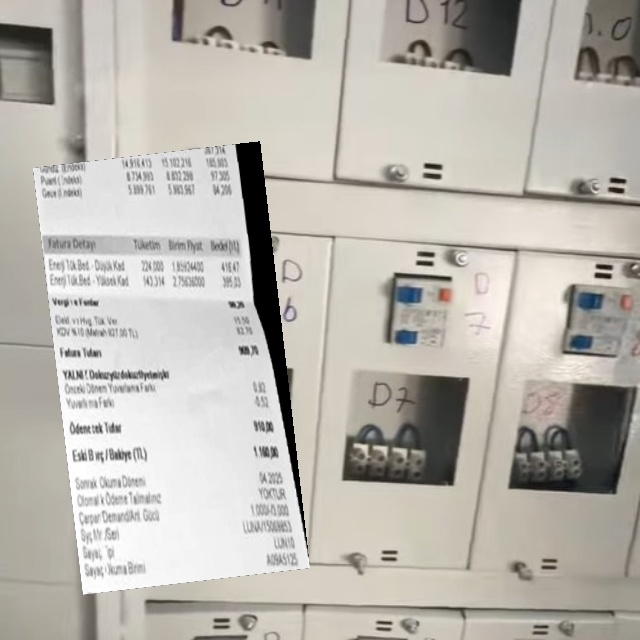electricity-bill: (33, 141, 310, 595)
